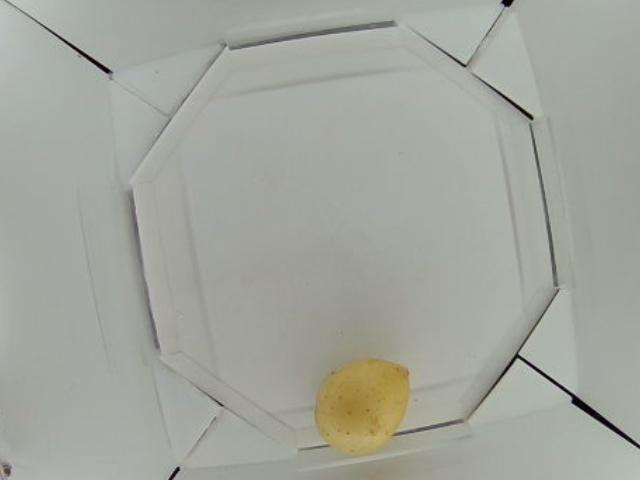Potato: (317, 358, 413, 458)
